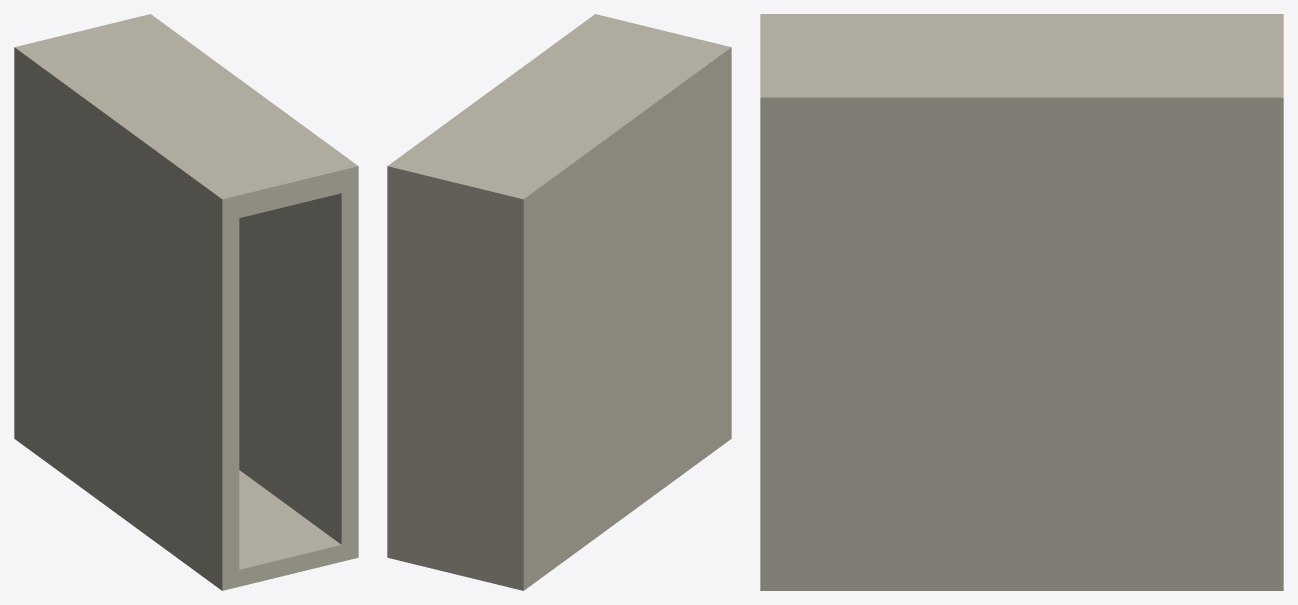
The model's file is KitchenCounter_SideShelf_Top_01.fbx.
The picture shows the model from 3 angles, left to right: view 1: azimuth 30°, elevation 25°; view 2: azimuth 150°, elevation 25°; view 3: azimuth 270°, elevation 25°; orthographic projection. The views are drawn at different scales.
Parts seen in each view (by area): view 1: KitchenCounter_SideShelf_Top_01; view 2: KitchenCounter_SideShelf_Top_01; view 3: KitchenCounter_SideShelf_Top_01.
Part boxes in pixels (x1,y1,x2,y2): KitchenCounter_SideShelf_Top_01: (14, 14, 358, 590); KitchenCounter_SideShelf_Top_01: (387, 14, 731, 590); KitchenCounter_SideShelf_Top_01: (760, 14, 1283, 590).
Bounding box in the file's own units: 0.25 × 0.6866 × 0.6606.
